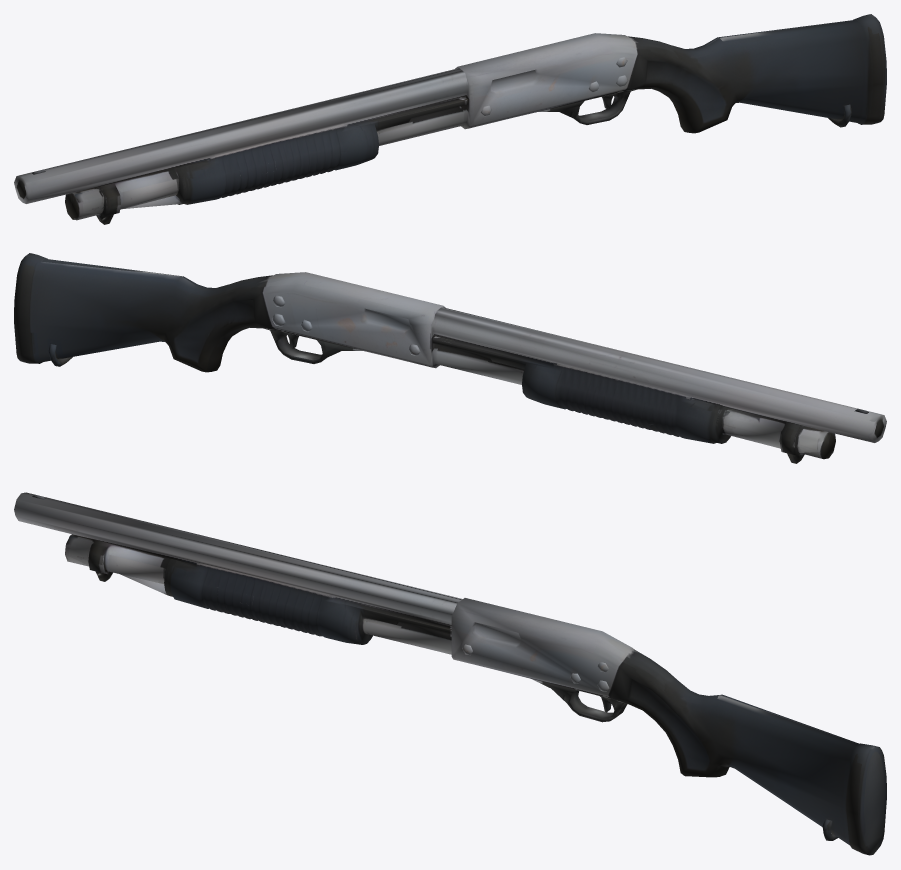
3 views of the same model, one above another, from view 1: azimuth 30°, elevation 25°; view 2: azimuth 150°, elevation 25°; view 3: azimuth 330°, elevation 25° (orthographic).
Parts seen in each view (by area): view 1: material; view 2: material; view 3: material.
Boxes of the visible parts, left/top/right/bottom form: material: left=14, top=14, right=886, bottom=224; material: left=14, top=253, right=886, bottom=463; material: left=14, top=492, right=886, bottom=855.
Size of the model in its own units: 190 by 33.04 by 10.06.
Materials: 1 (1 with a texture image).
